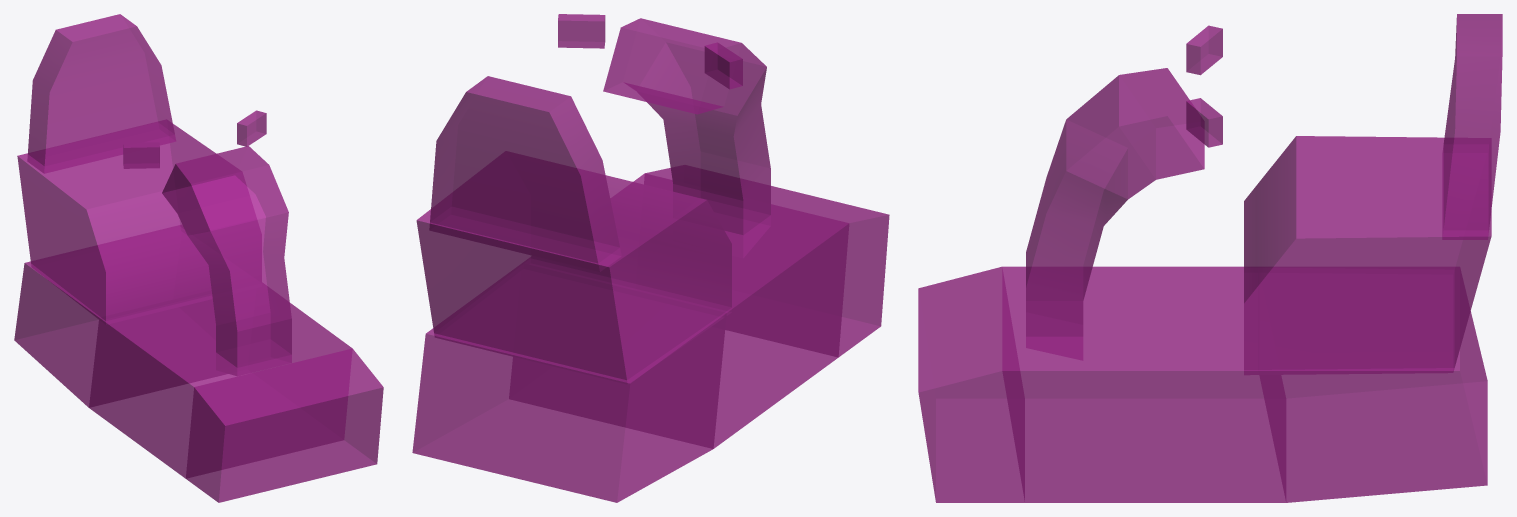
Rendered from SM_Veh_Scooter_01_Collision.fbx.
The picture shows the model from 3 angles, left to right: view 1: azimuth 30°, elevation 25°; view 2: azimuth 150°, elevation 25°; view 3: azimuth 270°, elevation 25°; orthographic projection. The views are drawn at different scales.
Visible parts, largest first — view 1: SM_Veh_Scooter_01_Collision; view 2: SM_Veh_Scooter_01_Collision; view 3: SM_Veh_Scooter_01_Collision.
Part boxes in pixels (box(x1,y1,x2,y2)): SM_Veh_Scooter_01_Collision: box(14, 14, 383, 502); SM_Veh_Scooter_01_Collision: box(412, 14, 889, 502); SM_Veh_Scooter_01_Collision: box(918, 14, 1502, 502).
Size of the model in its own units: 50.1 by 93.06 by 119.
